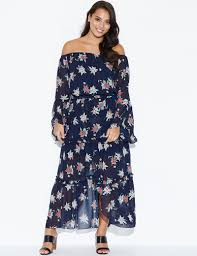C_skirt: (34, 93, 142, 236)
C_tank top: (57, 43, 127, 92)
